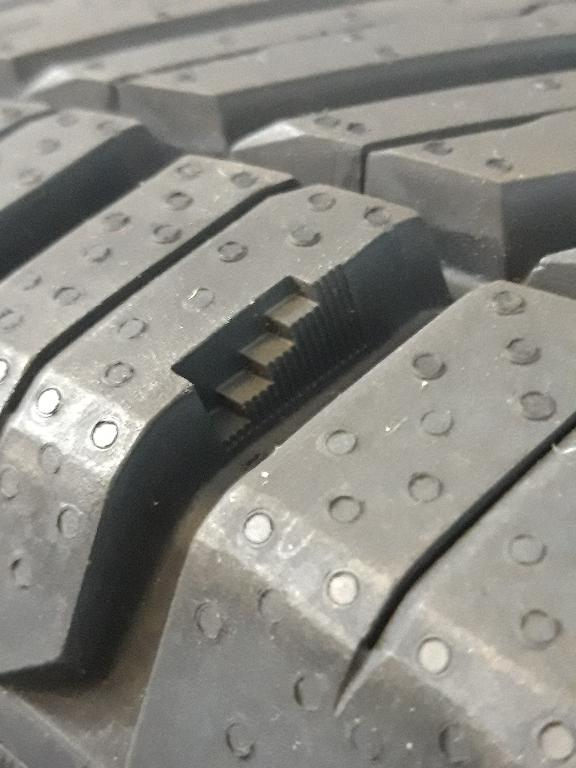temoin:100: (170, 267, 366, 457)
